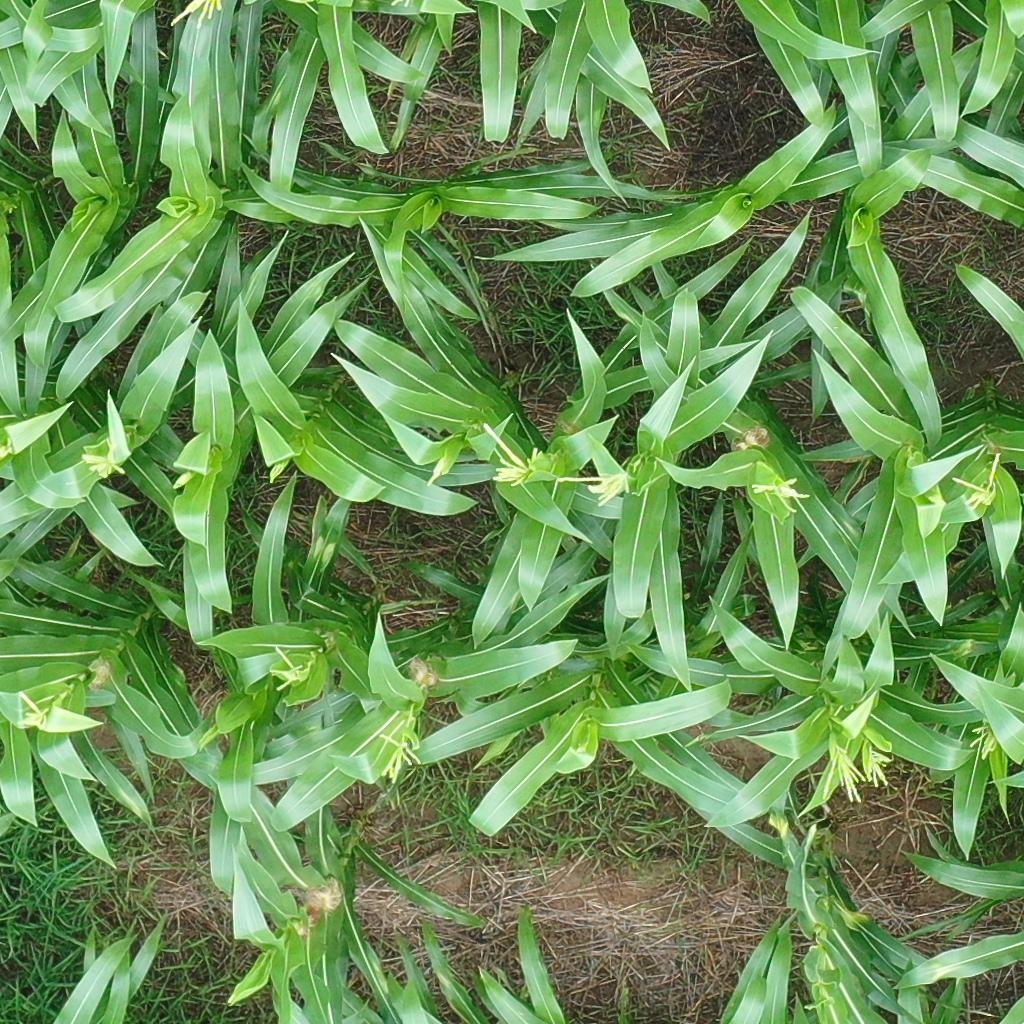Tassel: (482, 421, 543, 492), (553, 464, 639, 508), (953, 451, 1003, 514), (817, 745, 869, 803), (373, 730, 420, 787), (746, 473, 812, 513), (167, 1, 226, 34), (267, 646, 305, 697), (82, 451, 126, 485), (15, 690, 48, 734), (969, 719, 996, 764), (867, 749, 895, 790), (420, 451, 447, 487)
